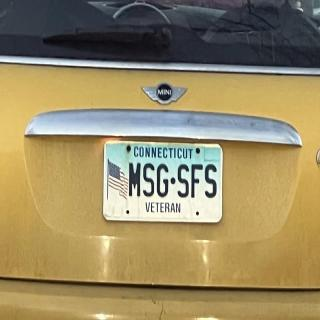license: (102, 141, 225, 224)
